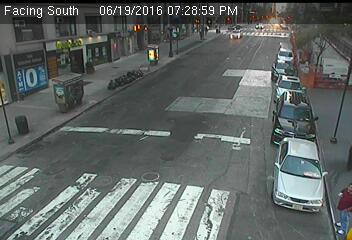pos: (329, 178, 351, 237)
